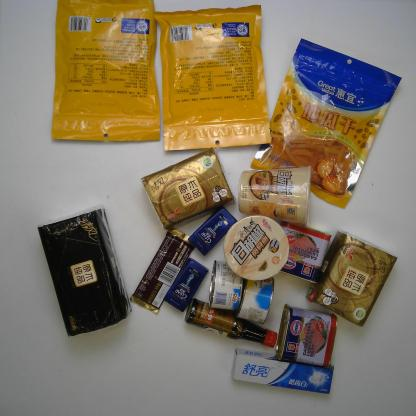Canned Food: (269, 218, 334, 284), (274, 302, 340, 367), (232, 267, 280, 325), (206, 251, 248, 312)
Chocolate: (129, 224, 197, 314)
Dried Fruit: (246, 36, 401, 210), (153, 3, 271, 152), (48, 0, 162, 143)
Instant Noodles: (234, 163, 316, 229), (221, 214, 290, 282)
Personal Hygiene: (229, 345, 335, 396), (189, 204, 239, 256), (163, 256, 207, 314)
Seasoner: (183, 298, 280, 350)
Tissue: (37, 204, 133, 338), (304, 227, 400, 328), (139, 146, 235, 232)
